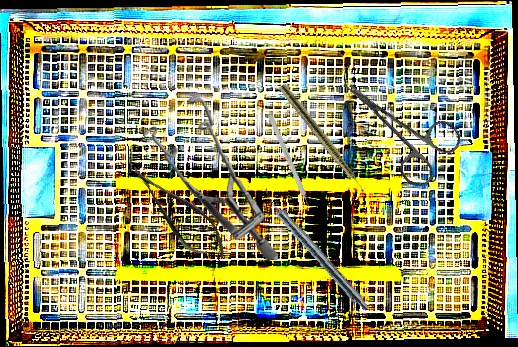Handpiece: (257, 186, 374, 314), (276, 82, 373, 201)
Hook Surgical: (267, 113, 315, 216)
Iris Scissors: (326, 56, 468, 193)
Micro Scissor: (120, 153, 237, 272)
Speculum: (142, 91, 278, 265)
